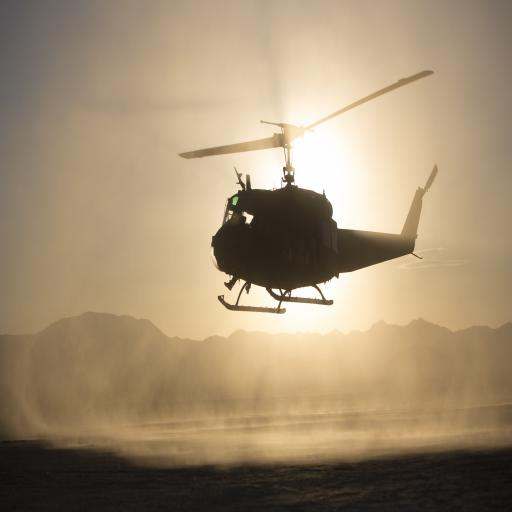helicopter: (177, 68, 441, 317)
